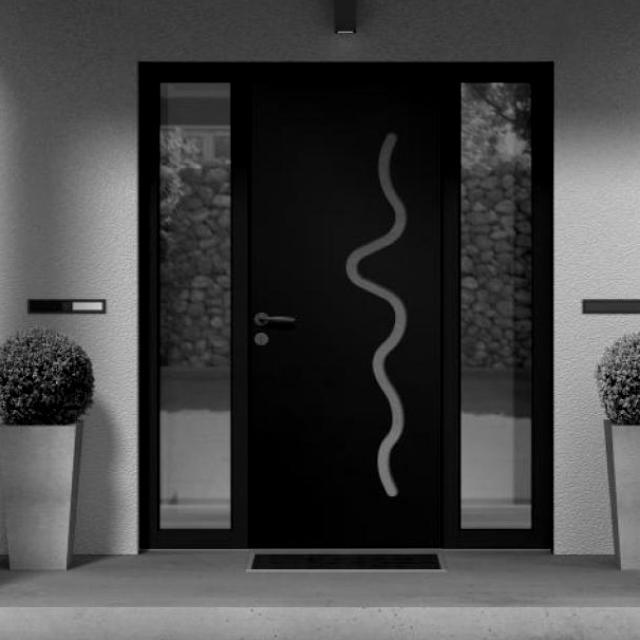door: (213, 48, 458, 554)
